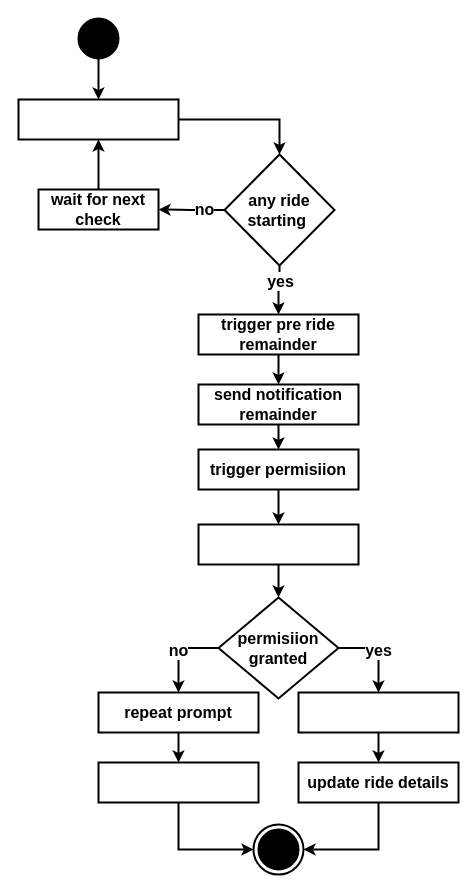
This 476x892 diagram has some shape labels left out. The shapes that lost their labels are listed below. From the top down, each one's centre as x and y in pixels, then its label:
(98,119): check upcoming
(278,544): wait for response
(378,712): mark ready
(178,782): prompt as not ready
